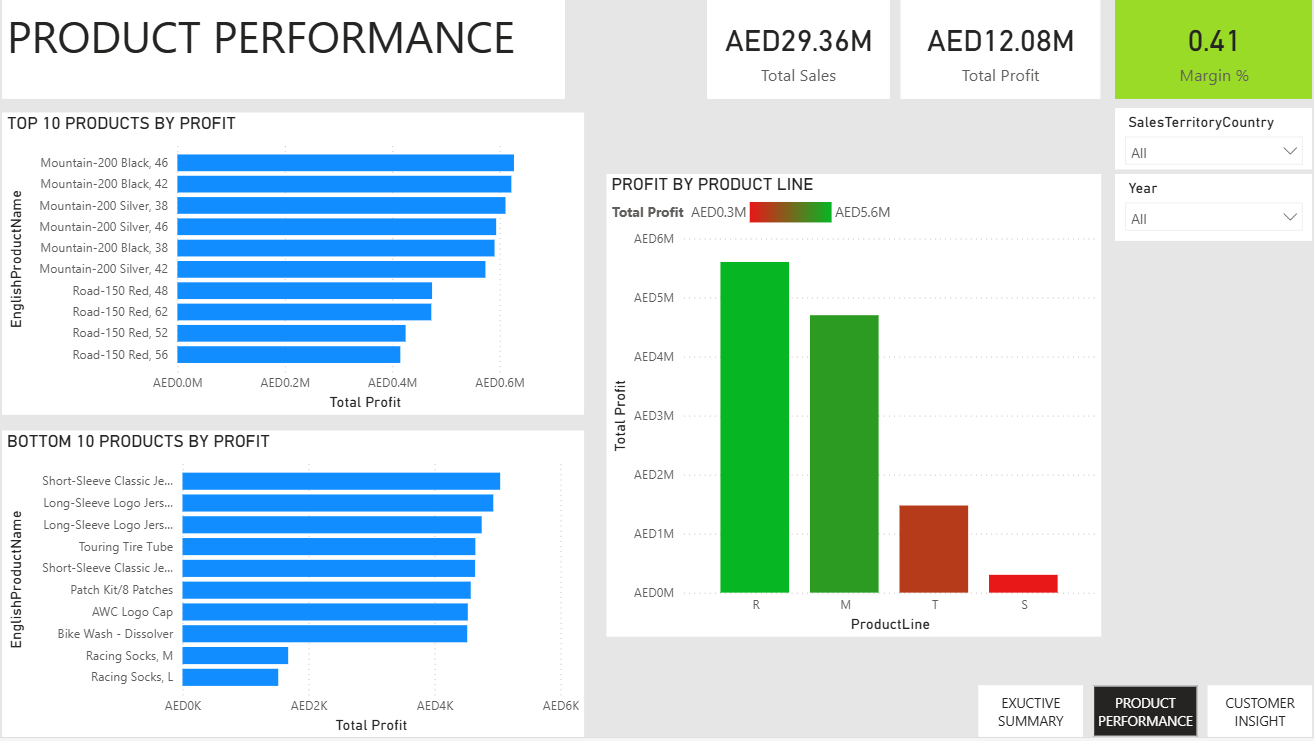

What the dashboard file says about the page in this screenshot:
{"tool":"powerbi","page":{"name":"PRODUCT PERFORMANCE","canvas":[1280,720],"ordinal":1},"visuals":[{"type":"textbox","box":[0,0,549.9,96.4],"z":0},{"type":"card","fields":{"Values":["key_measures.Total Sales"]},"box":[688.3,0,178.3,96.7],"z":1000},{"type":"card","fields":{"Values":["key_measures.Total Profit"]},"box":[878.3,0,195,96.7],"z":2000},{"type":"slicer","fields":{"Values":["Calendar.Year"]},"box":[1086.7,170,193.3,65],"z":3000},{"type":"slicer","fields":{"Values":["DimSalesTerritory.SalesTerritoryCountry"]},"box":[1086.7,105,193.3,60],"z":4000},{"type":"clusteredColumnChart","title":"PROFIT BY PRODUCT LINE ","fields":{"Category":["vw_Sales_Analysis.ProductLine"],"Y":["key_measures.Total Profit"]},"box":[590,170,483.3,451.7],"z":5000},{"type":"barChart","title":"TOP 10 PRODUCTS BY PROFIT","fields":{"Category":["vw_Sales_Analysis.EnglishProductName"],"Y":["key_measures.Total Profit"]},"box":[0,110,568.3,295],"z":6000},{"type":"barChart","title":"BOTTOM 10 PRODUCTS BY PROFIT","fields":{"Category":["vw_Sales_Analysis.EnglishProductName"],"Y":["key_measures.Total Profit"]},"box":[0,420,568.3,300],"z":7000},{"type":"card","fields":{"Values":["key_measures.Margin %"]},"box":[1086.7,0,193.3,96.7],"z":8000},{"type":"pageNavigator","box":[953.3,670,326.7,50],"z":9000}]}

Visuals, with their boxes in screenshot pixels (x1, y1, x2, y2), scaled from the page's 1280x720 canvas onto the 1314x741 screenshot:
textbox: l=0, t=0, r=565, b=99
card - key_measures.Total Sales: l=707, t=0, r=890, b=100
card - key_measures.Total Profit: l=902, t=0, r=1102, b=100
slicer - Calendar.Year: l=1116, t=175, r=1313, b=242
slicer - DimSalesTerritory.SalesTerritoryCountry: l=1116, t=108, r=1313, b=170
"PROFIT BY PRODUCT LINE " clusteredColumnChart: l=606, t=175, r=1102, b=640
"TOP 10 PRODUCTS BY PROFIT" barChart: l=0, t=113, r=583, b=417
"BOTTOM 10 PRODUCTS BY PROFIT" barChart: l=0, t=432, r=583, b=740
card - key_measures.Margin %: l=1116, t=0, r=1313, b=100
pageNavigator: l=979, t=690, r=1313, b=740
